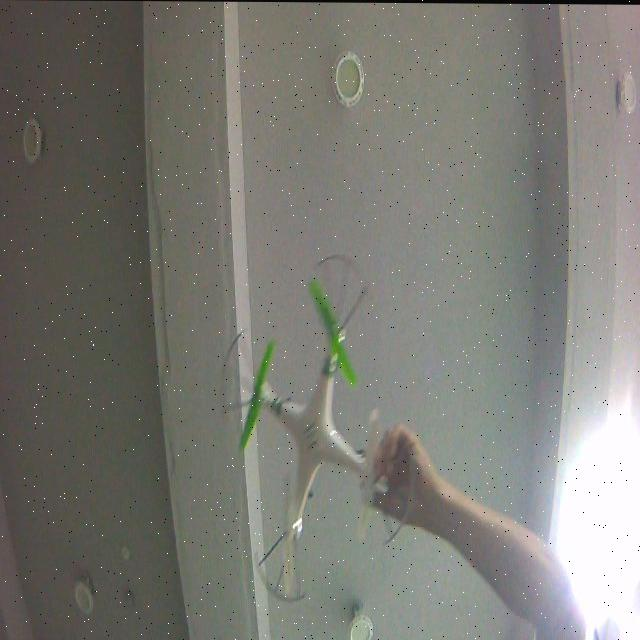drone: (217, 250, 415, 607)
